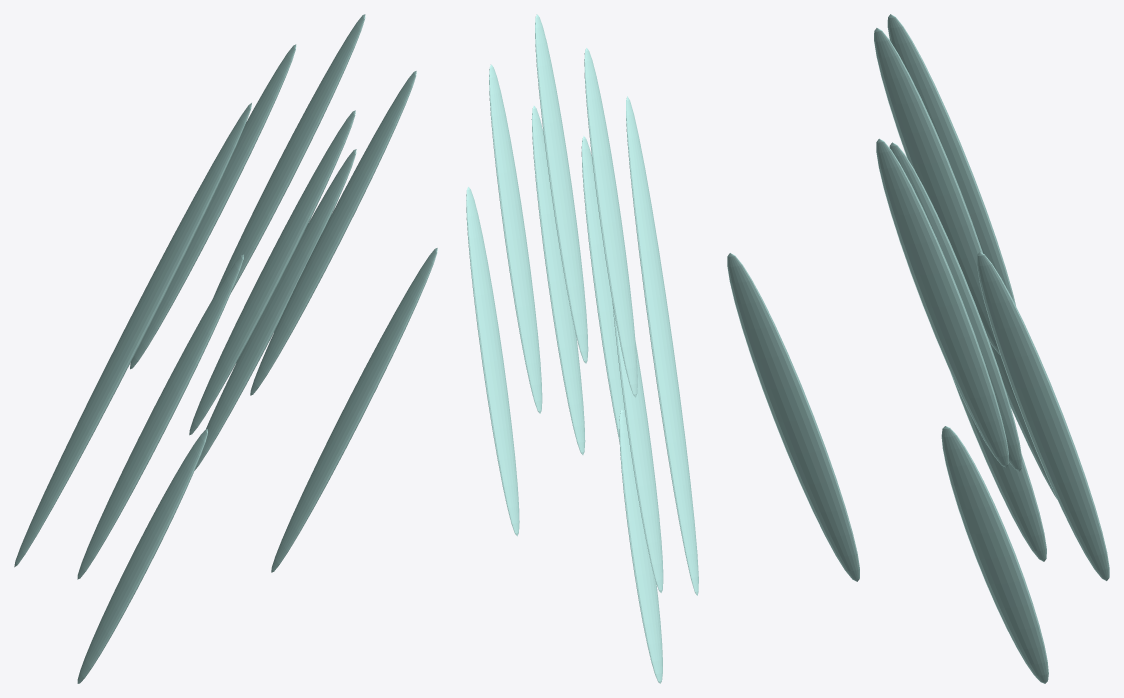
Rendered from coco rayado.fbx.
3 renders of one model, left to right at view 1: azimuth 30°, elevation 25°; view 2: azimuth 150°, elevation 25°; view 3: azimuth 270°, elevation 25°, orthographic. The views are drawn at different scales.
Visible parts, largest first — view 1: coco rayado; view 2: coco rayado; view 3: coco rayado.
Part boxes in pixels (box(x1,y1,x2,y2)): coco rayado: box(14, 14, 437, 683); coco rayado: box(466, 14, 698, 683); coco rayado: box(727, 14, 1109, 683).
Bounding box in the file's own units: 85.85 × 172 × 76.35.
